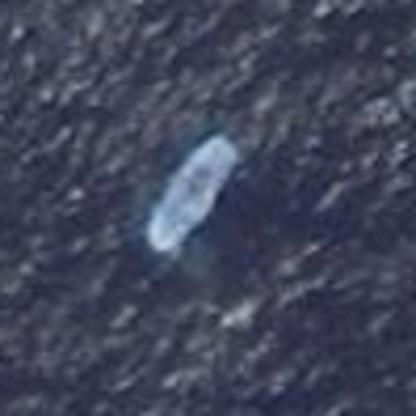ship: (139, 128, 247, 258)
